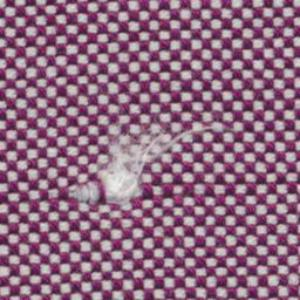fault: (46, 106, 226, 203)
